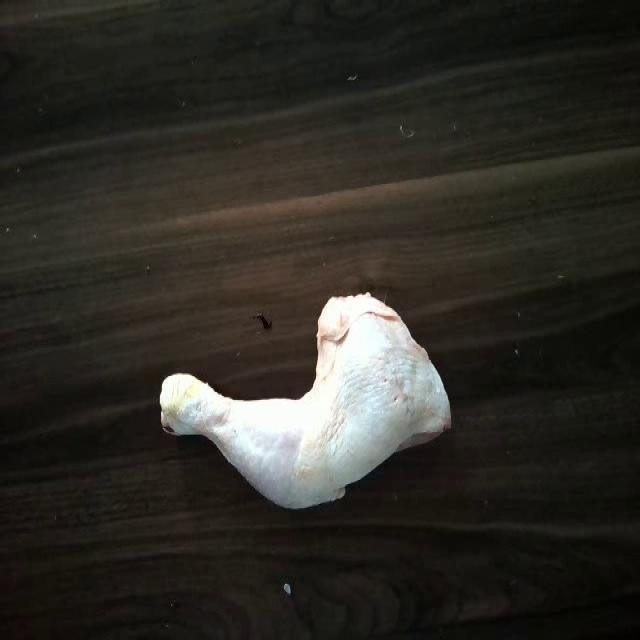quater: (128, 278, 460, 511)
